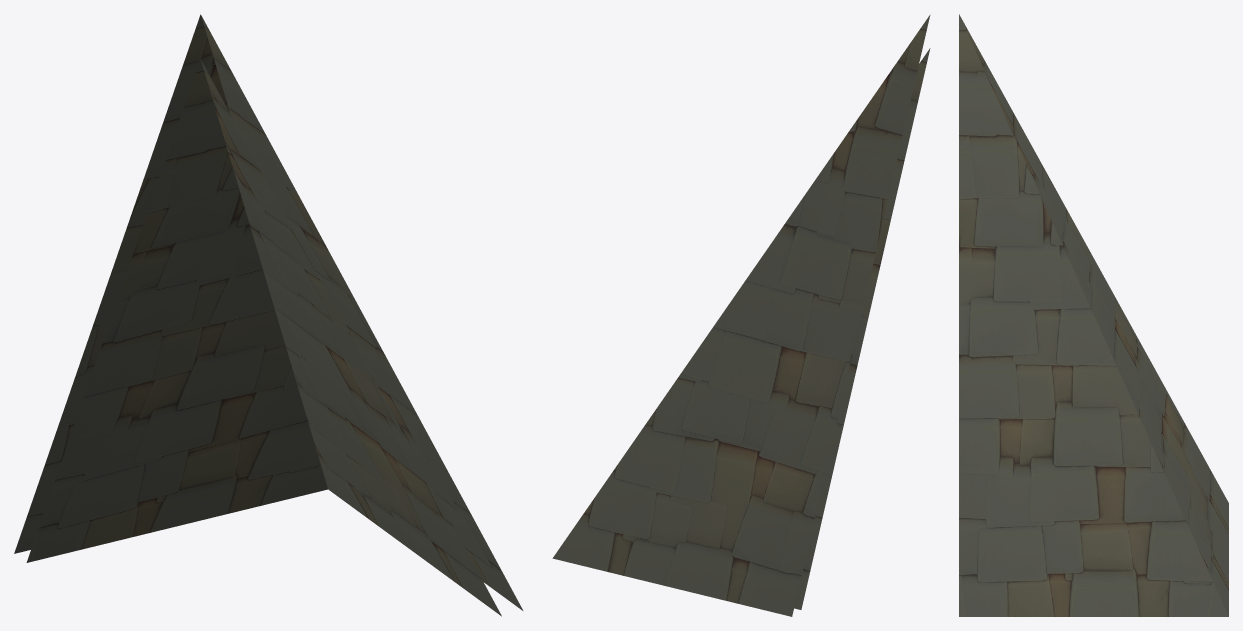
The model's file is ARC0510008.fbx.
3 views of the same model, side by side, from view 1: azimuth 30°, elevation 25°; view 2: azimuth 150°, elevation 25°; view 3: azimuth 270°, elevation 25° (orthographic). The views are drawn at different scales.
Visible parts, largest first — view 1: smARC0510008; view 2: smARC0510008; view 3: smARC0510008.
Boxes of the visible parts, x1,y1,x2,y2 form: smARC0510008: (14, 14, 523, 616); smARC0510008: (552, 14, 930, 616); smARC0510008: (959, 14, 1228, 616).
Bounding box in the file's own units: 150 × 300 × 150.
1 material, 1 textured.
